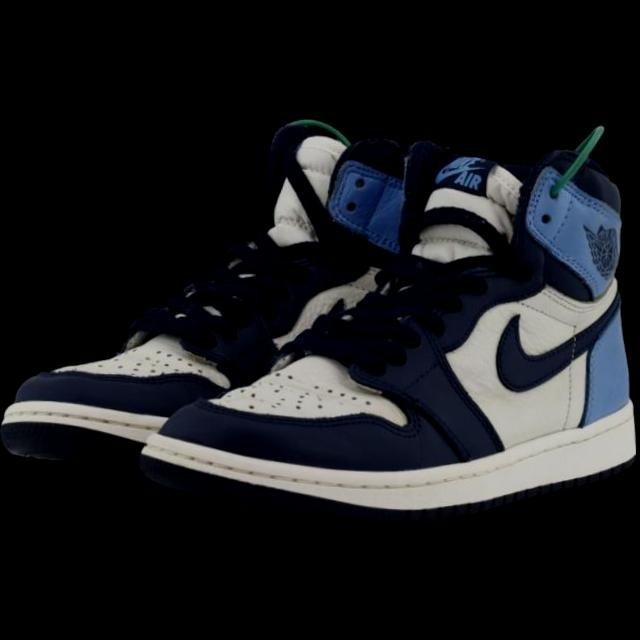nike_original_jordan: (126, 123, 640, 534), (0, 114, 431, 483)
